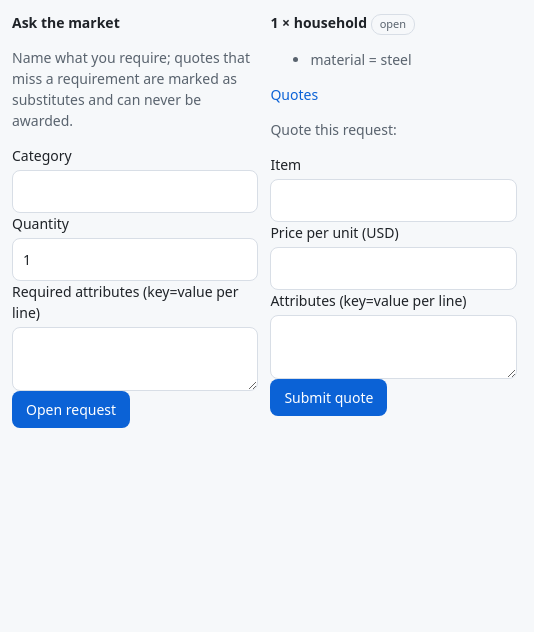
Scenario: RequestsPane: RFQ discovery never bypasses the law › marks substitutes and awards only the eligible into the buy path
The image size is (534, 632).
Later steps or results of the test are not shown.
What coordinates should you click on to do the following:
click the button "Quotes"
I would click on:
 (294, 94)
Its box is top-left (270, 84), bottom-right (318, 104).
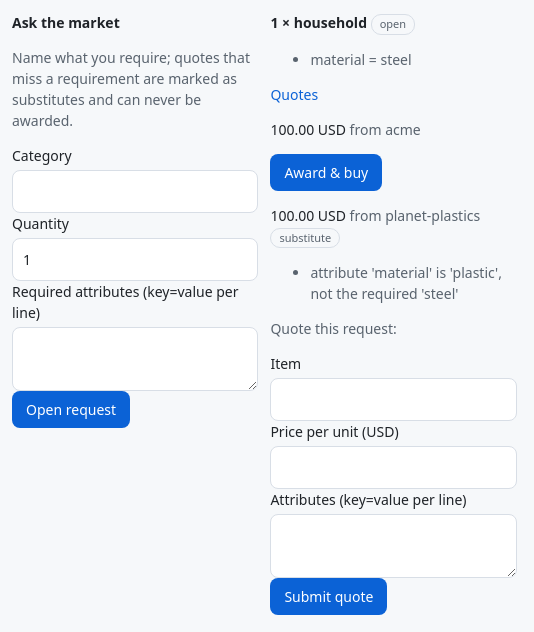
Expected: the text "substitute" is shown, top-left (270, 228), bottom-right (340, 248)
Expected: the list item "attribute 'material' is 'plastic', not the required 'steel'" is shown, top-left (310, 262), bottom-right (517, 304)
Expected: the number of buttons "Award & buy" is 1, top-left (270, 154), bottom-right (382, 190)
